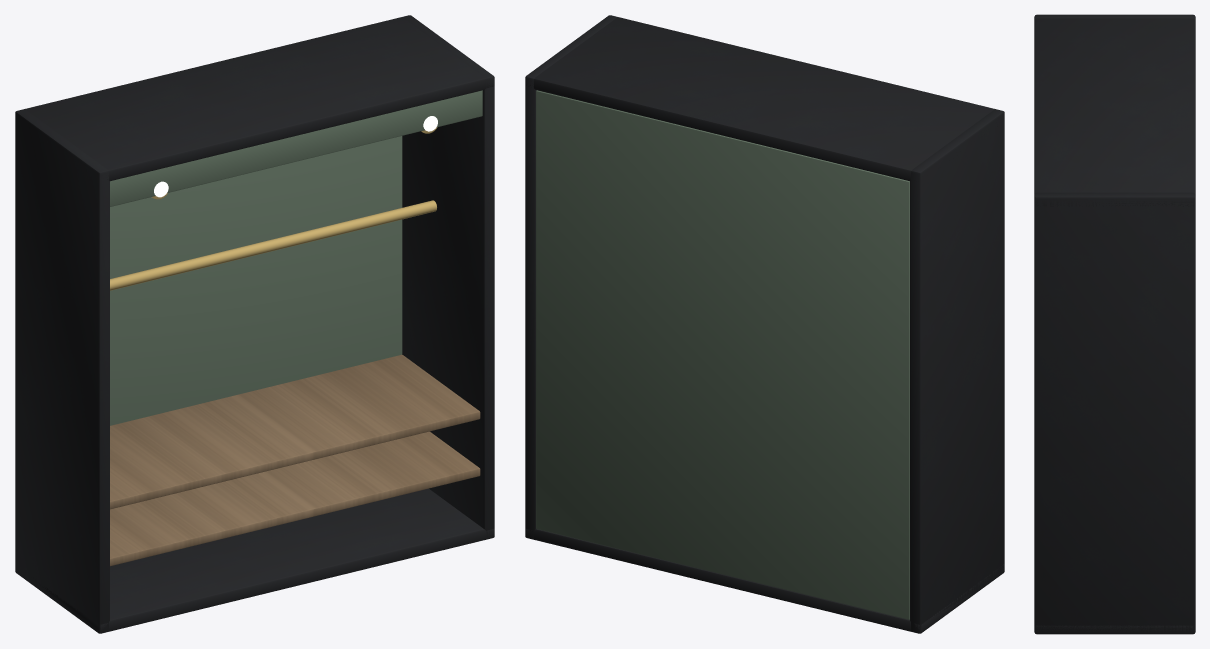
File: pf_display_clothing_rack_t3.glb
3 renders of one model, left to right at view 1: azimuth 30°, elevation 25°; view 2: azimuth 150°, elevation 25°; view 3: azimuth 270°, elevation 25°, orthographic. The views are drawn at different scales.
Visible parts, largest first — view 1: Case_Back, Case_Left, Case_Top, Case_Right, Shelf_02, Case_Base, Shelf_01, Header_Back, Hang_Rail; view 2: Case_Back, Case_Left, Case_Top, Case_Right, Case_Base; view 3: Case_Right, Case_Top, Case_Base, Case_Left.
Boxes of the visible parts, <box> form: Case_Back: <box>110,136,402,425</box>; Case_Left: <box>15,109,109,633</box>; Case_Top: <box>25,17,494,181</box>; Case_Right: <box>402,15,494,538</box>; Shelf_02: <box>110,354,480,509</box>; Case_Base: <box>16,488,494,633</box>; Shelf_01: <box>110,431,480,566</box>; Header_Back: <box>110,90,482,206</box>; Hang_Rail: <box>110,200,436,290</box>; Case_Back: <box>536,90,909,619</box>; Case_Left: <box>910,109,1004,633</box>; Case_Top: <box>526,17,1003,181</box>; Case_Right: <box>525,15,617,538</box>; Case_Base: <box>525,529,1004,633</box>; Case_Right: <box>1034,192,1195,634</box>; Case_Top: <box>1034,18,1195,206</box>; Case_Base: <box>1035,625,1193,633</box>; Case_Left: <box>1034,14,1195,19</box>.
Bounding box in the file's own units: 1.75 × 1.95 × 0.65.
Materials: 6 (2 with a texture image).
